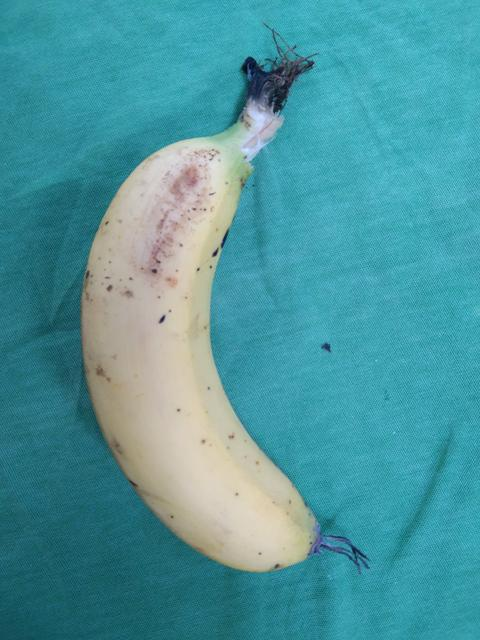freshripe: (72, 130, 347, 585)
